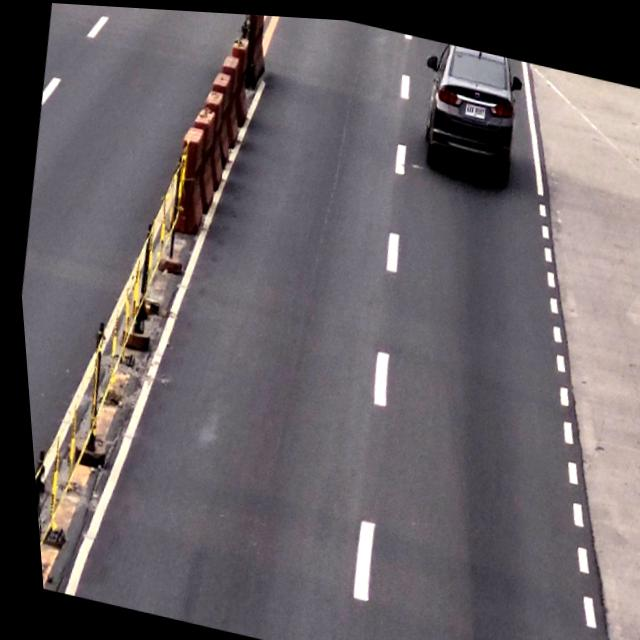Car: (414, 34, 527, 165)
License-Plate: (462, 95, 487, 114)
